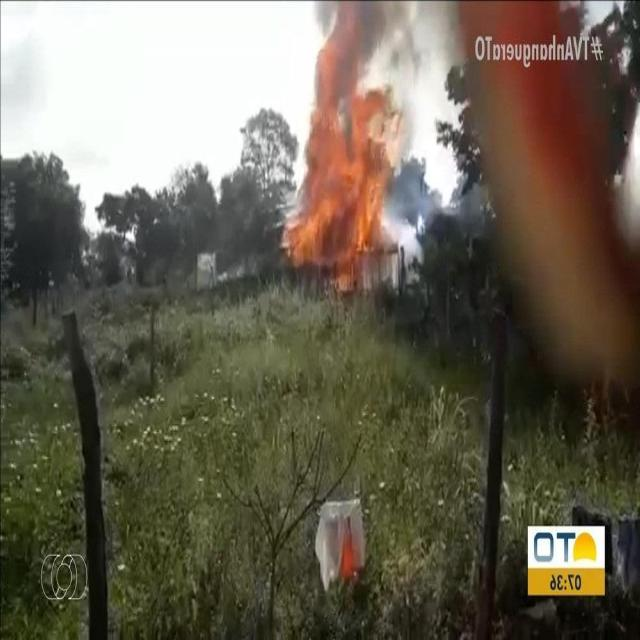Fire: (282, 28, 398, 270)
